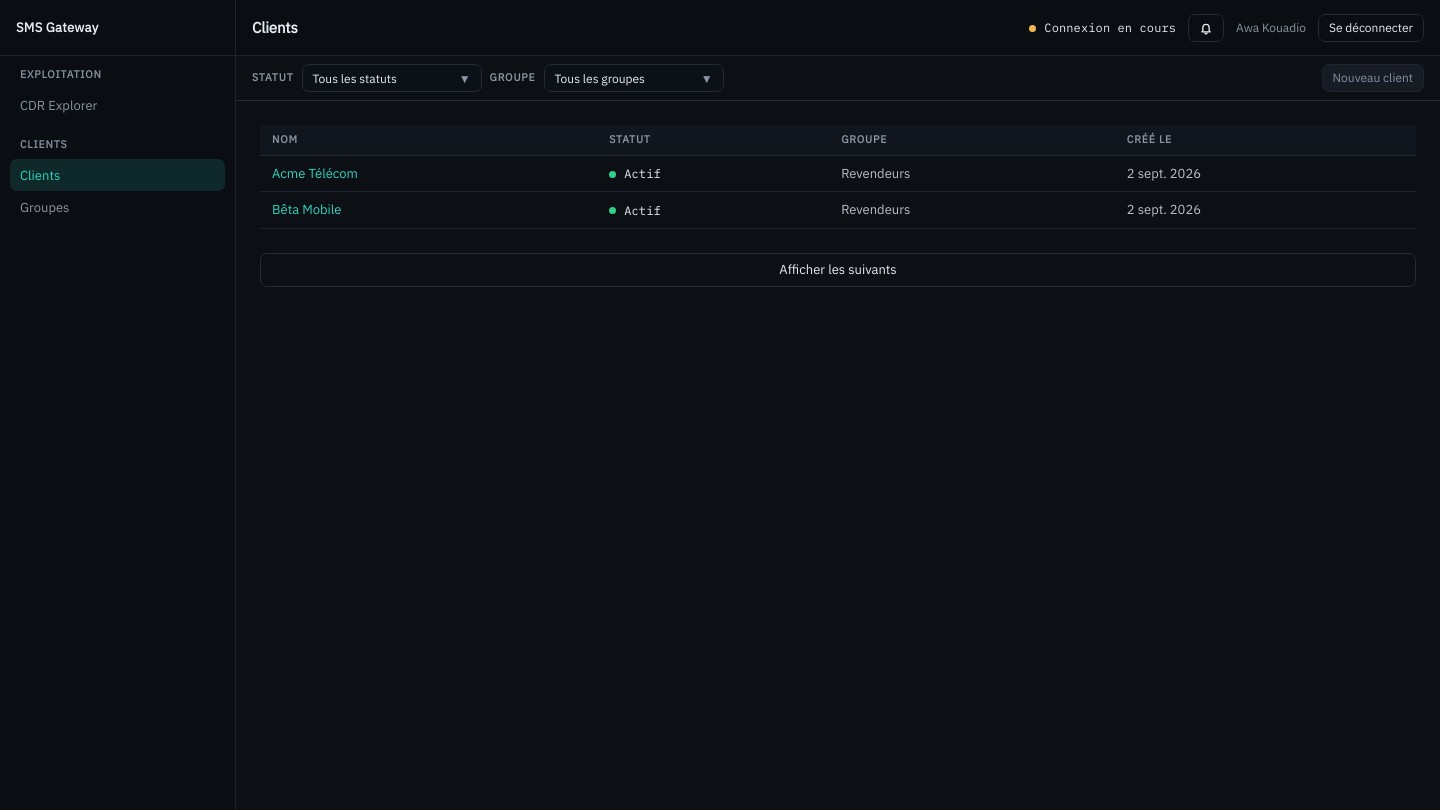
Test: the customers screen › adds the next page on demand, with the cursor the previous one gave
Expected: the cell "Bêta Mobile" is shown, x1=260 y1=192 x2=597 y2=228
Expected: the cell "Gamma SMS" is not shown
Click the button "Afficher les suivants" at [838, 270], box x1=260 y1=253 x2=1416 y2=287
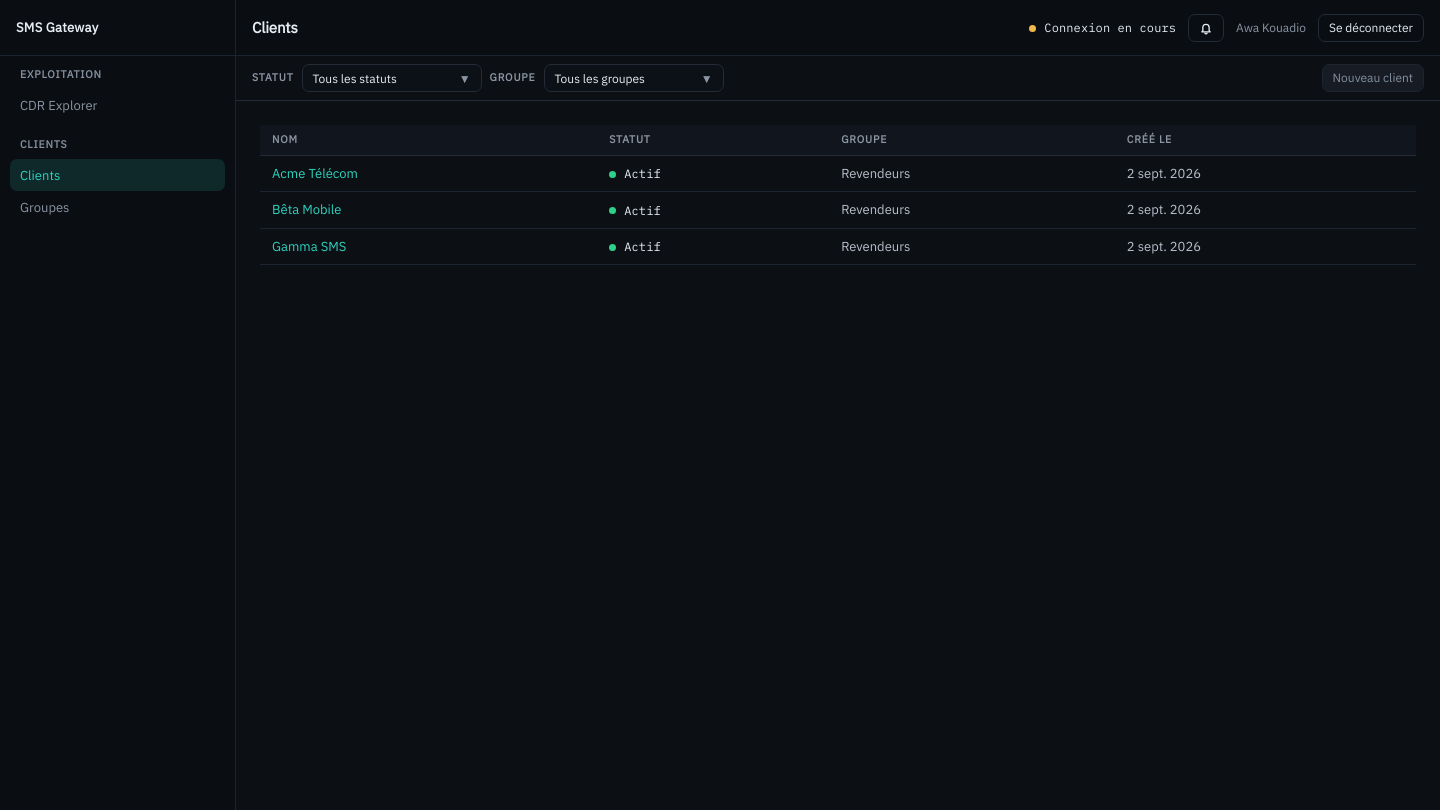
Expected: the cell "Acme Télécom" is shown, x1=260 y1=156 x2=597 y2=192
Now the cell "Gamma SMS" is shown, box x1=260 y1=228 x2=597 y2=265
Now the button "Afficher les suivants" is gone
